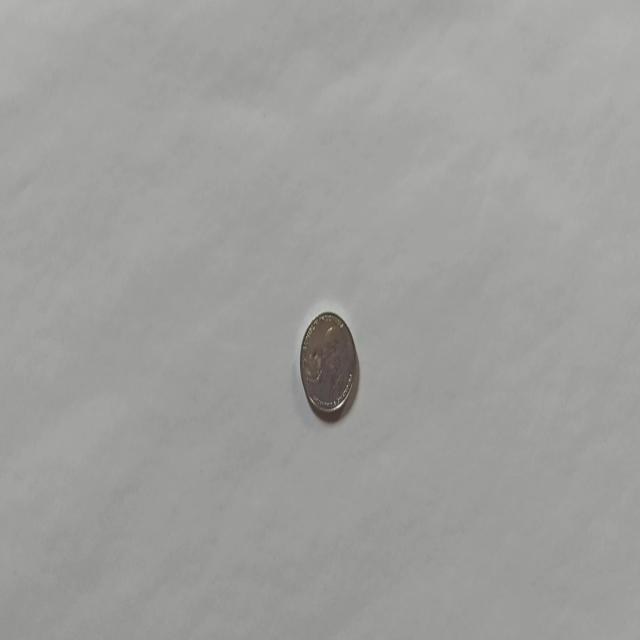lima ratus rupiah: (298, 309, 358, 418)
